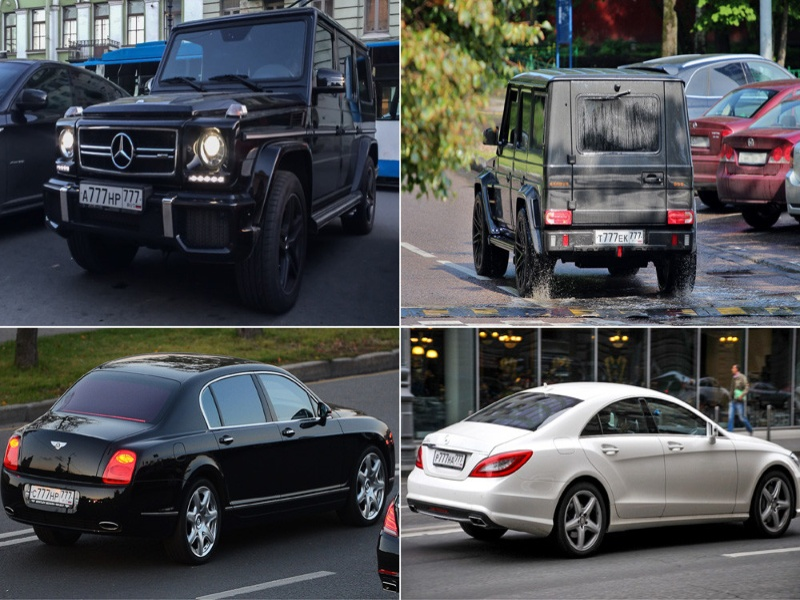car: (43, 6, 379, 309), (4, 353, 396, 558), (406, 382, 800, 555), (1, 57, 131, 220), (688, 78, 800, 211), (617, 53, 797, 118), (716, 96, 800, 228), (377, 492, 399, 594)
person: (728, 366, 751, 437)
plate: (79, 183, 143, 210), (29, 484, 74, 509), (594, 229, 643, 245), (432, 448, 466, 468), (736, 151, 767, 166)
